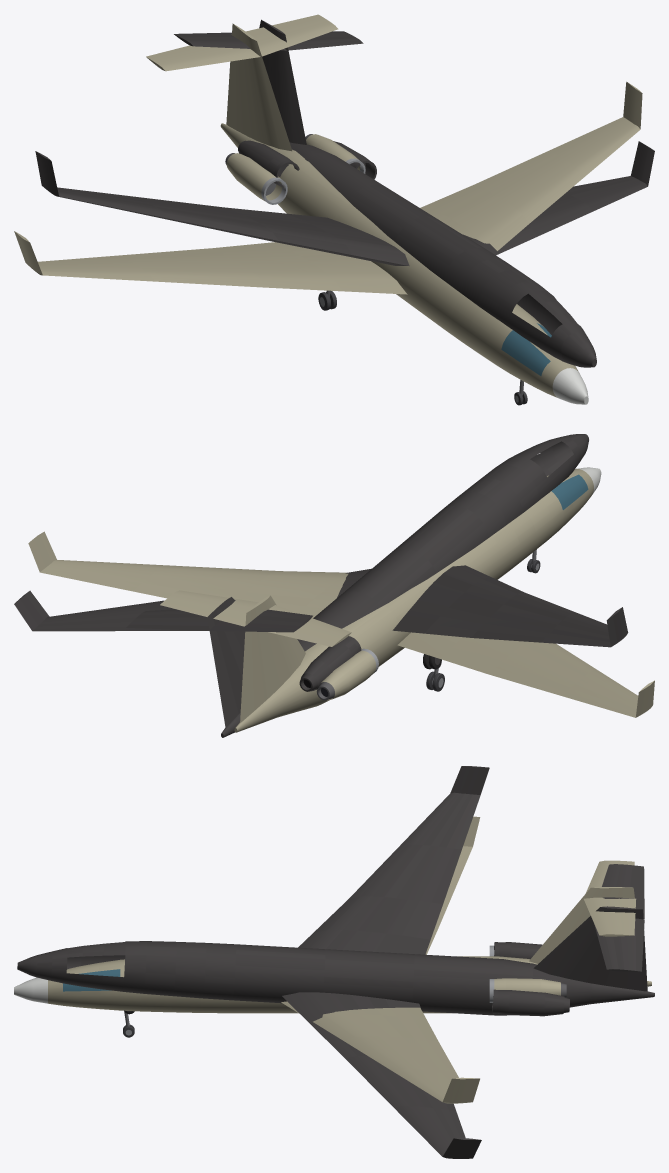
The model's file is aewc__global_6500_korean_caew.glb.
3 views of the same model, one above another, from view 1: azimuth 30°, elevation 25°; view 2: azimuth 150°, elevation 25°; view 3: azimuth 270°, elevation 25° (orthographic). The views are drawn at different scales.
Parts seen in each view (by area): view 1: Fuselage_Mesh, Wreck; view 2: Fuselage_Mesh, Wreck; view 3: Wreck, Fuselage_Mesh.
Boxes of the visible parts, x1,y1,x2,y2 form: Fuselage_Mesh: (14, 14, 642, 405); Wreck: (35, 19, 654, 367); Fuselage_Mesh: (28, 467, 654, 732); Wreck: (14, 434, 628, 737); Wreck: (17, 766, 654, 1158); Fuselage_Mesh: (14, 816, 651, 1103).
Size of what is drawn, in the model's own units: 30.15 by 7.91 by 30.44.
